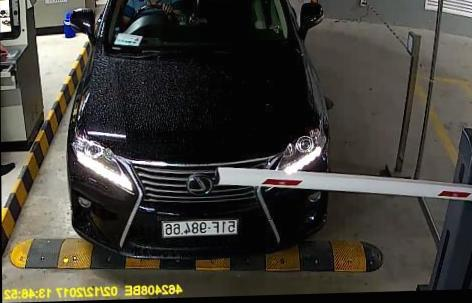License_Plate: (162, 214, 240, 239)
